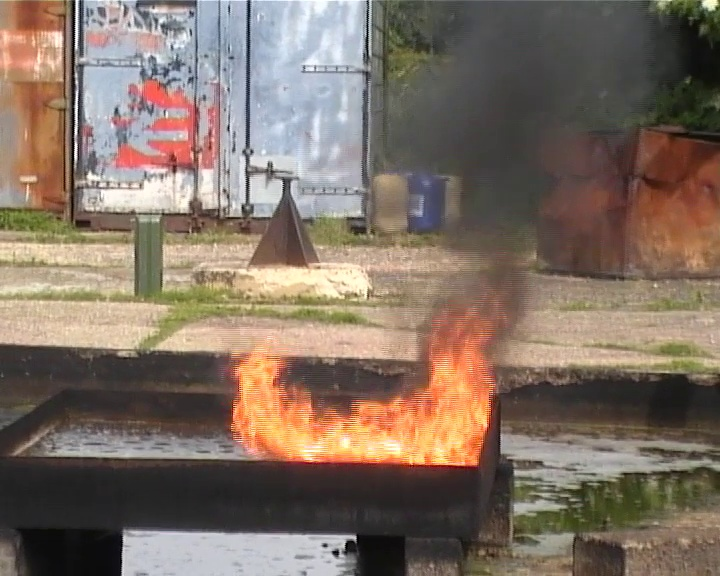fire: (234, 349, 491, 464)
